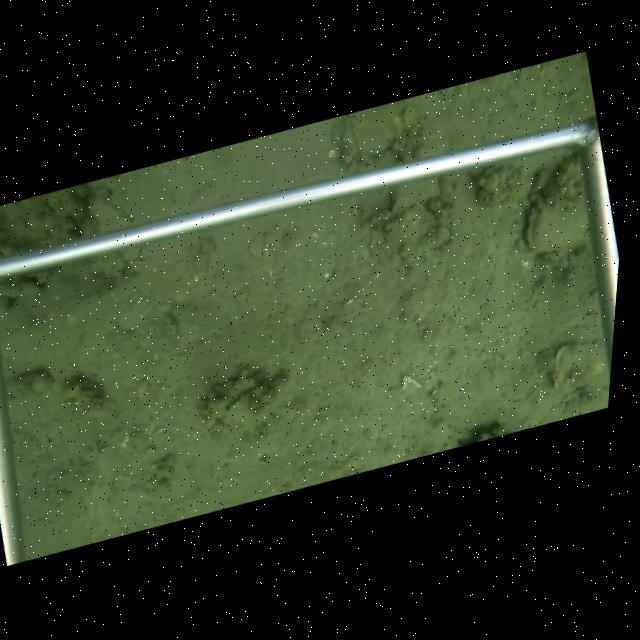Oyster-Closed: (519, 147, 591, 258)
Oyster-Indeterminate: (326, 105, 407, 167), (216, 379, 280, 429), (382, 202, 438, 252), (387, 177, 443, 214)
